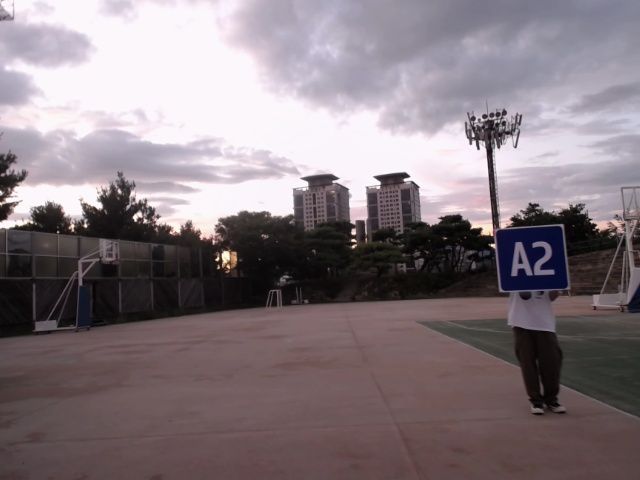delivery_a2: (495, 225, 570, 292)
